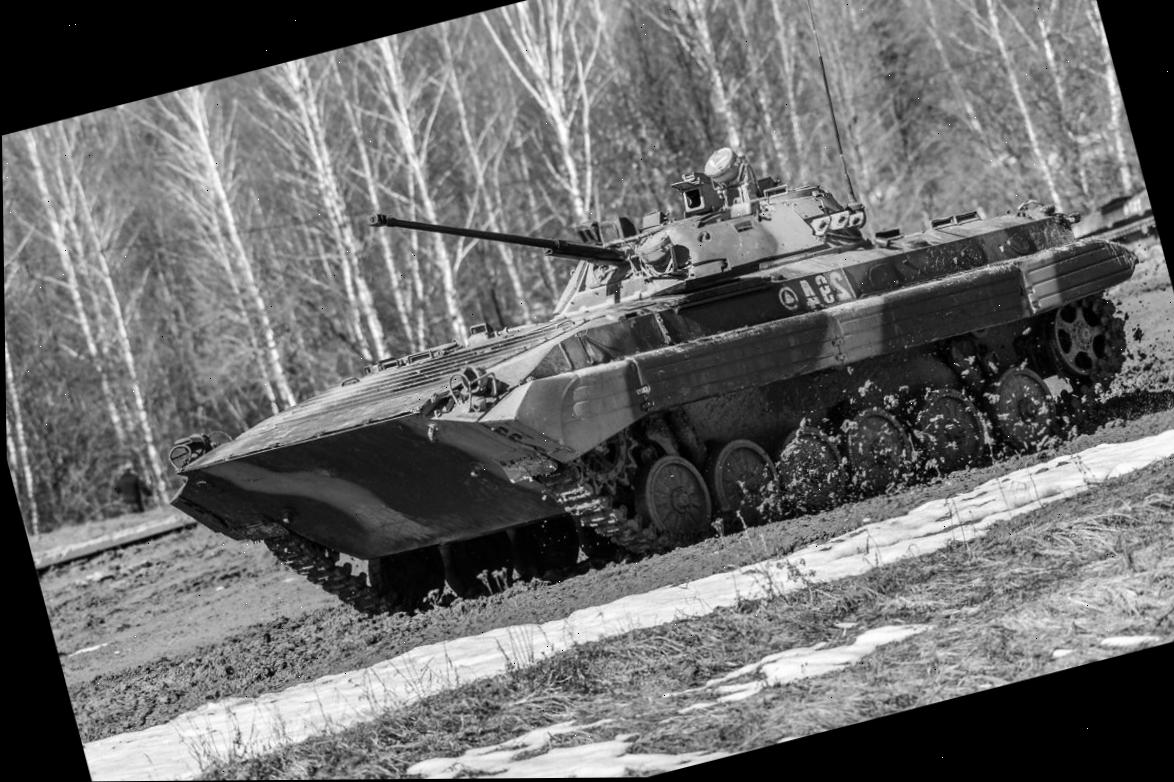person: (103, 457, 159, 520)
tank: (102, 26, 1174, 669)
